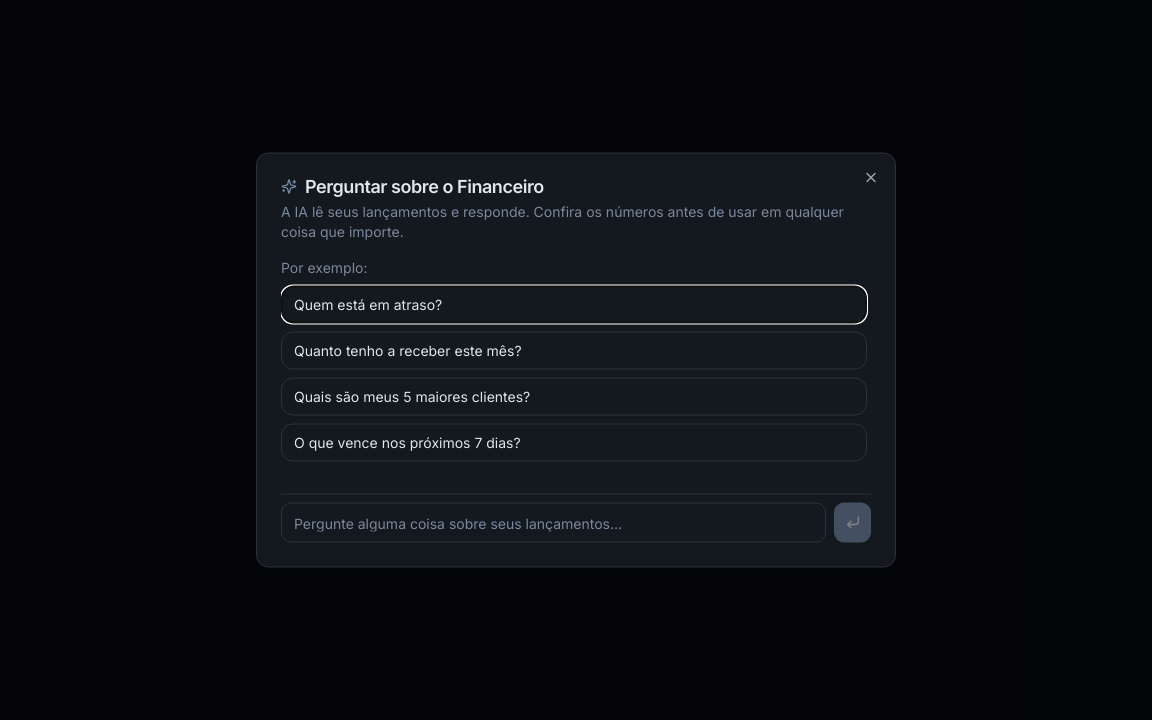
AssistenteFinanceiro › limpa o campo depois de perguntar
Type "quanto recebi?" into the field with placeholder "Pergunte alguma coisa sobre seus lançamentos…" at (554, 522), box [281,502,826,542]
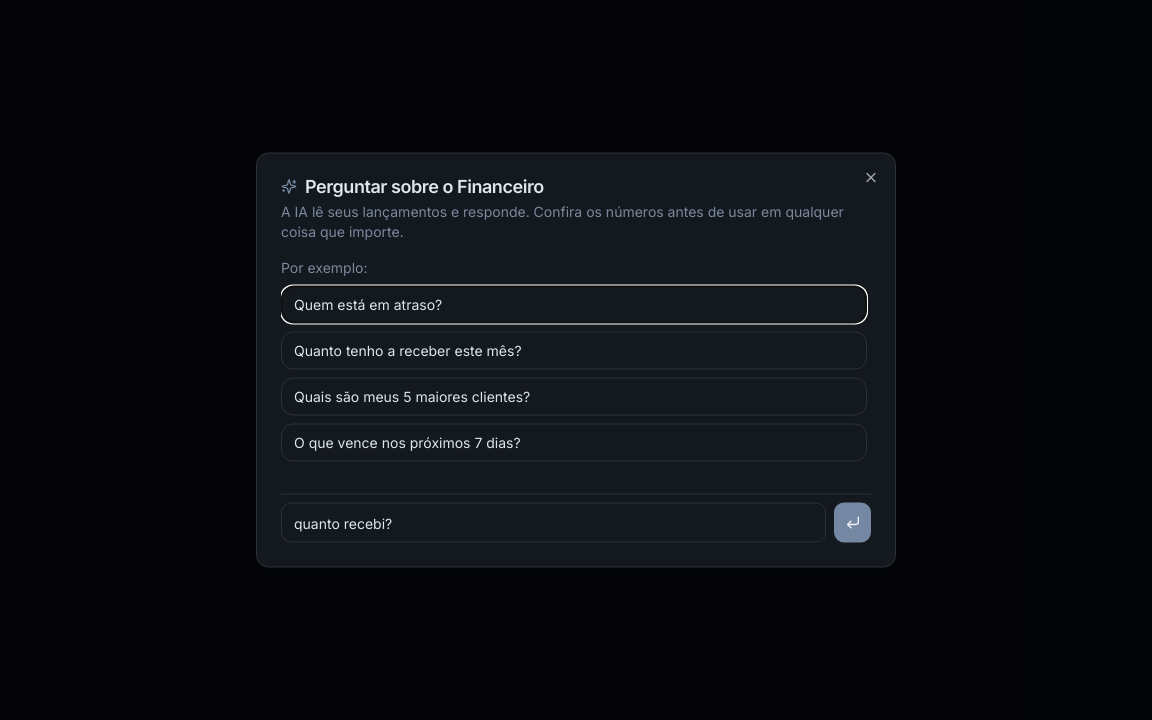
Press Enter in the field with placeholder "Pergunte alguma coisa sobre seus lançamentos…", box [281,502,826,542]
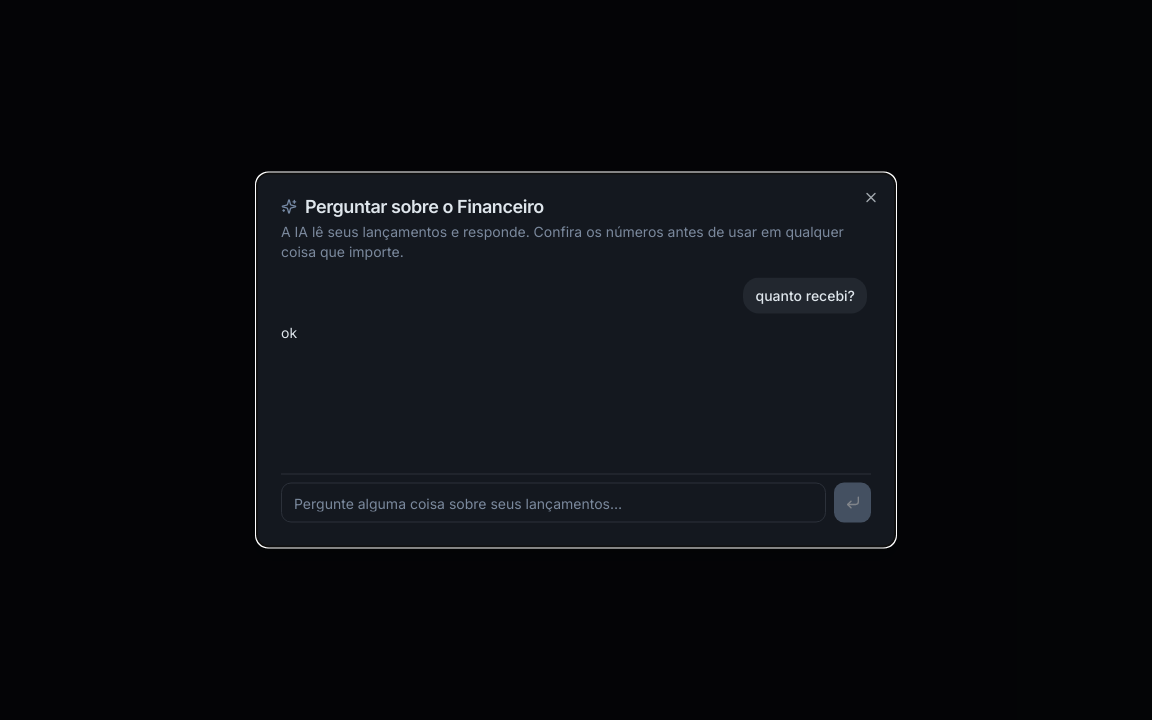
Result: the field with placeholder "Pergunte alguma coisa sobre seus lançamentos…" is empty at [281,482,826,522]
